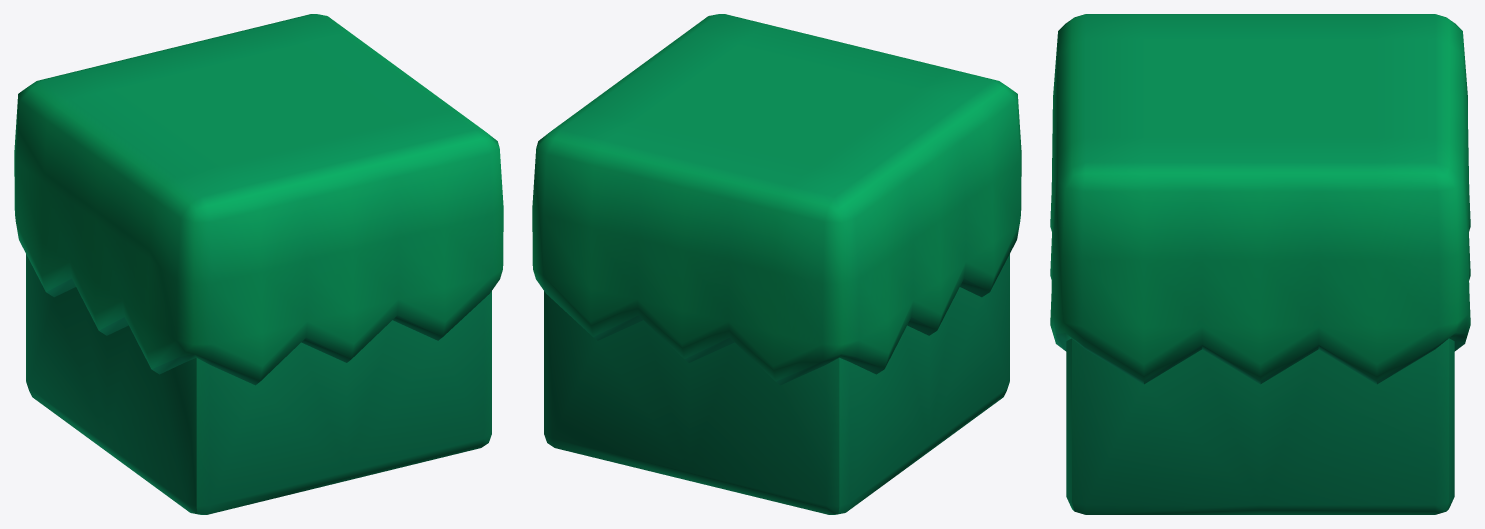
File: tree.glb
3 views of the same model, side by side, from view 1: azimuth 30°, elevation 25°; view 2: azimuth 150°, elevation 25°; view 3: azimuth 270°, elevation 25° (orthographic). The views are drawn at different scales.
Visible parts, largest first — view 1: tree; view 2: tree; view 3: tree.
Boxes of the visible parts, box(x1,y1,x2,y2) form: tree: box(14, 14, 503, 514); tree: box(532, 14, 1021, 514); tree: box(1050, 14, 1470, 514).
Bounding box in the file's own units: 2.17 × 2 × 2.17.
Materials: 1 (1 with a texture image).
